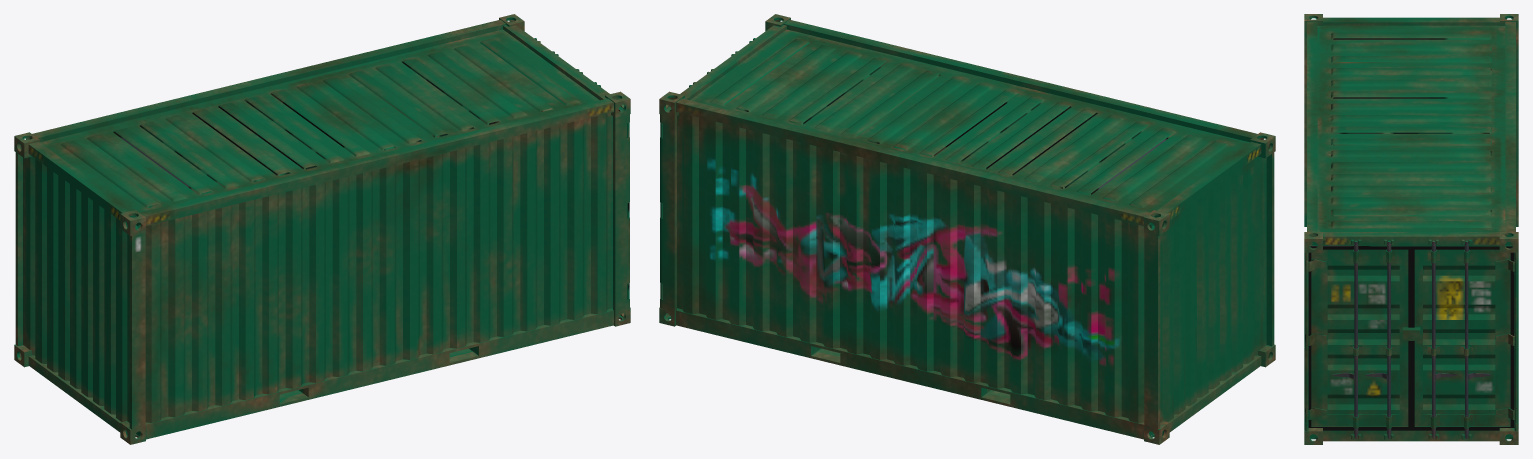
File: kontejner_20_zeleny.glb
3 views of the same model, side by side, from view 1: azimuth 30°, elevation 25°; view 2: azimuth 150°, elevation 25°; view 3: azimuth 270°, elevation 25° (orthographic). The views are drawn at different scales.
Visible parts, largest first — view 1: kontejner_20_zeleny; view 2: kontejner_20_zeleny; view 3: kontejner_20_zeleny.
Part boxes in pixels (box(x1,y1,x2,y2)): kontejner_20_zeleny: box(14, 14, 630, 444); kontejner_20_zeleny: box(659, 14, 1275, 444); kontejner_20_zeleny: box(1304, 14, 1518, 444).
Size of the model in its own units: 6.06 by 2.59 by 2.44.
Materials: 1 (1 with a texture image).
